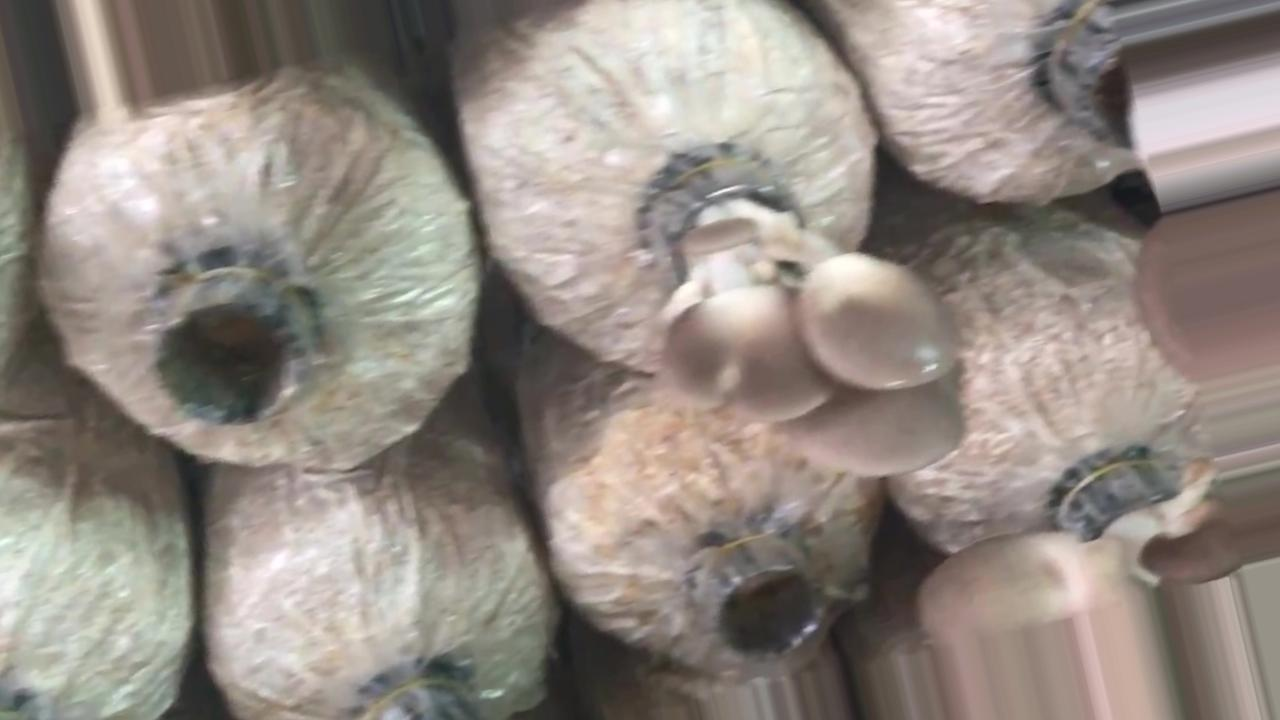nam: (643, 163, 977, 482)
